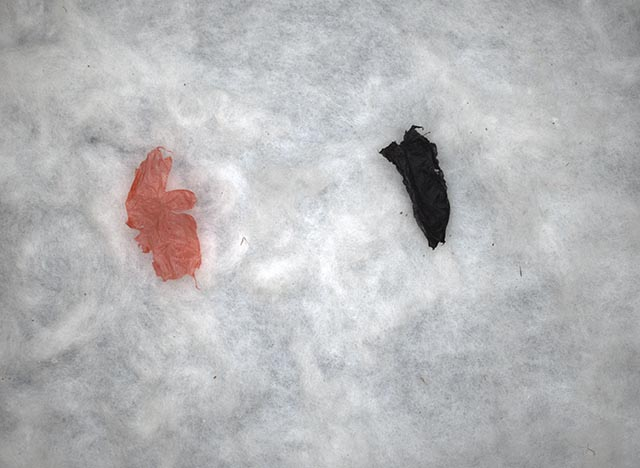plastic film: (124, 146, 202, 291), (377, 123, 451, 250)
